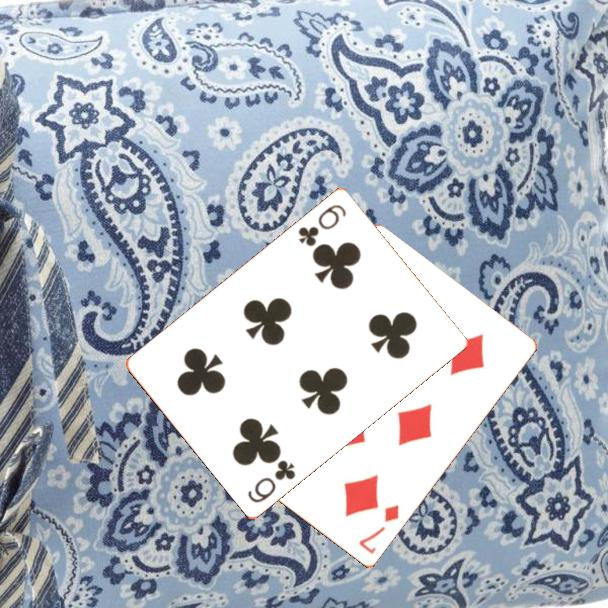c06: (244, 456, 298, 506), (294, 200, 349, 249)
d07: (355, 502, 402, 557)
